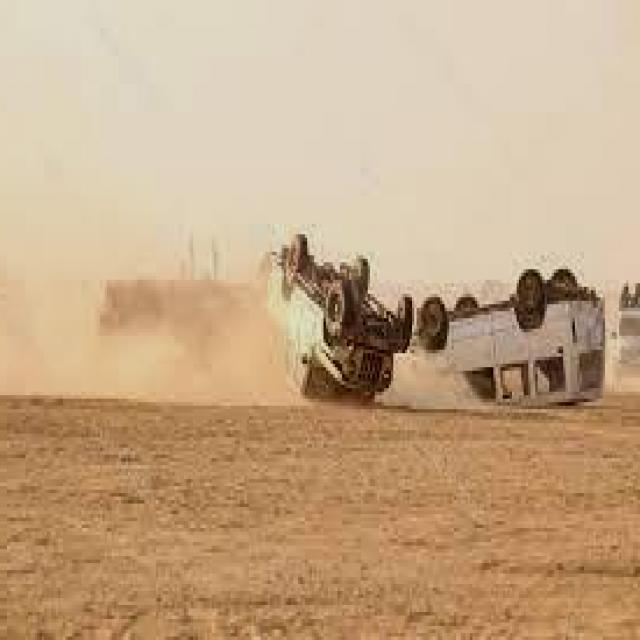accident: (254, 233, 608, 414)
